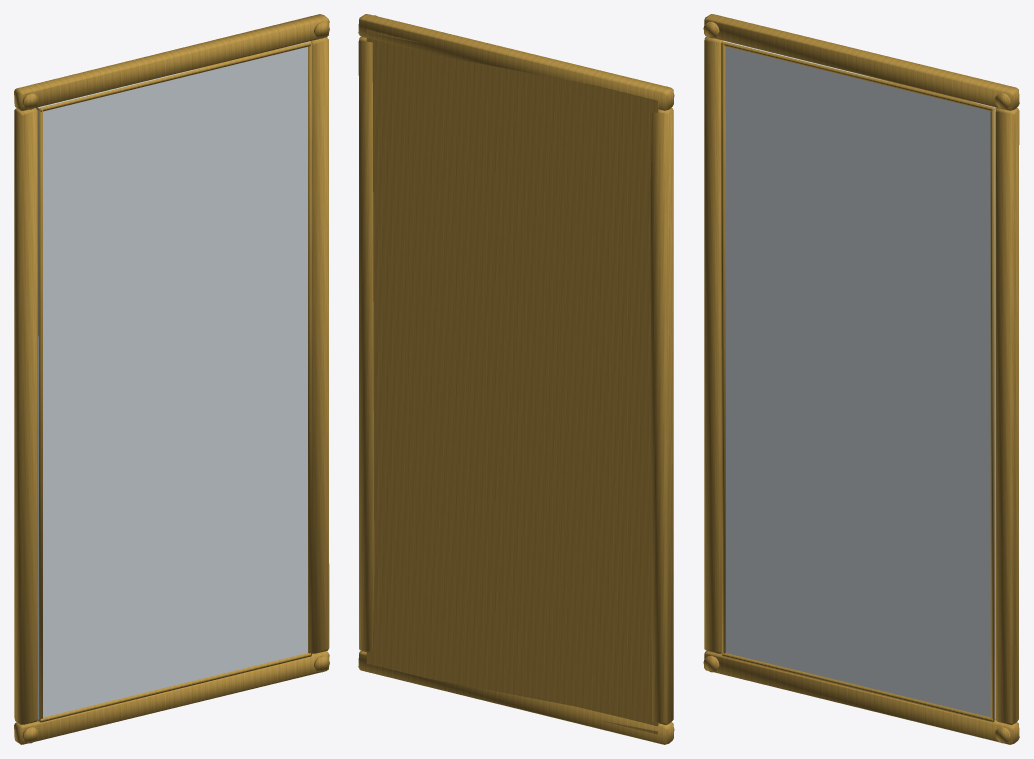
File: espelho-13x28-leve.glb
3 renders of one model, left to right at view 1: azimuth 30°, elevation 25°; view 2: azimuth 150°, elevation 25°; view 3: azimuth 330°, elevation 25°, orthographic.
Parts seen in each view (by area): view 1: vidro, montante, montante.001, travessa, travessa.001, filete.002, filete.003, filete, filete.001; view 2: fundo, montante, montante.001, travessa, travessa.001; view 3: vidro, montante.001, montante, travessa, travessa.001, filete.002, filete.003, filete, filete.001.
Part boxes in pixels (x1,y1,x2,y2): vidro: [37, 41, 310, 721]; montante: [14, 108, 37, 724]; montante.001: [311, 37, 329, 653]; travessa: [14, 14, 329, 110]; travessa.001: [14, 651, 329, 744]; filete.002: [36, 107, 42, 721]; filete.003: [308, 43, 311, 655]; filete: [36, 42, 311, 111]; filete.001: [37, 653, 311, 722]; fundo: [366, 29, 659, 734]; montante: [650, 108, 673, 725]; montante.001: [358, 36, 374, 651]; travessa: [358, 14, 673, 110]; travessa.001: [358, 651, 673, 744]; vidro: [722, 40, 996, 721]; montante.001: [995, 108, 1019, 725]; montante: [704, 36, 722, 653]; travessa: [704, 14, 1019, 110]; travessa.001: [704, 651, 1019, 744]; filete.002: [721, 42, 725, 655]; filete.003: [990, 107, 994, 721]; filete: [722, 41, 996, 111]; filete.001: [722, 653, 995, 722].
Bounding box in the file's own units: 1.48 × 2.98 × 0.0767.
2 materials, 1 textured.
